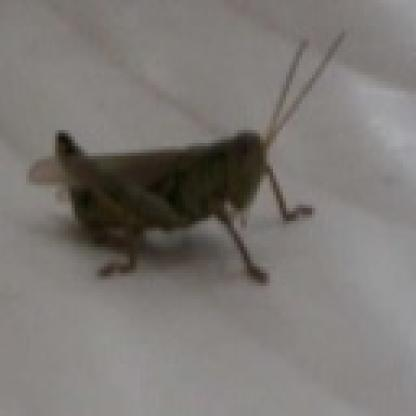grasshopper: (37, 61, 325, 297)
